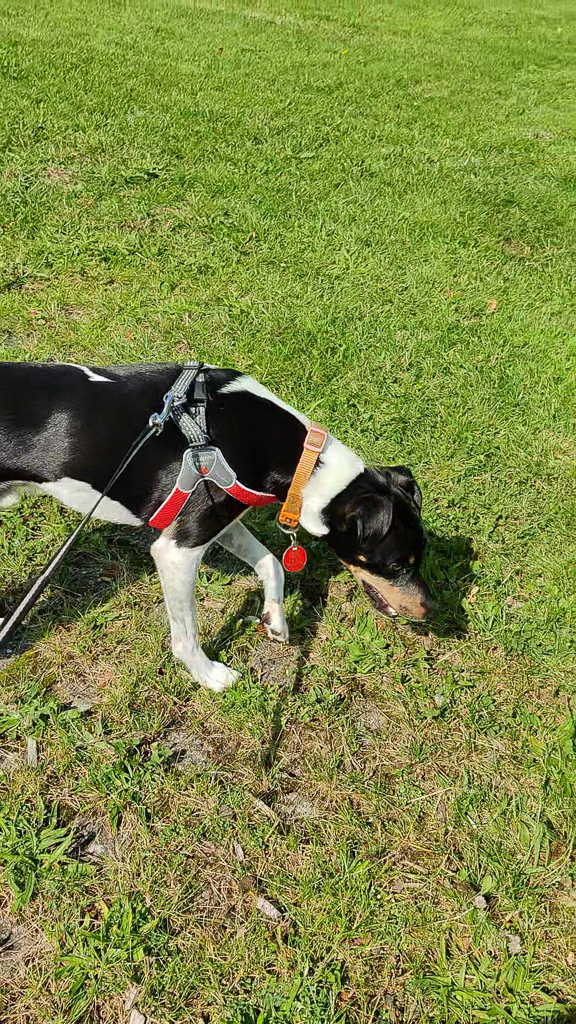Dog: (0, 326, 465, 726)
